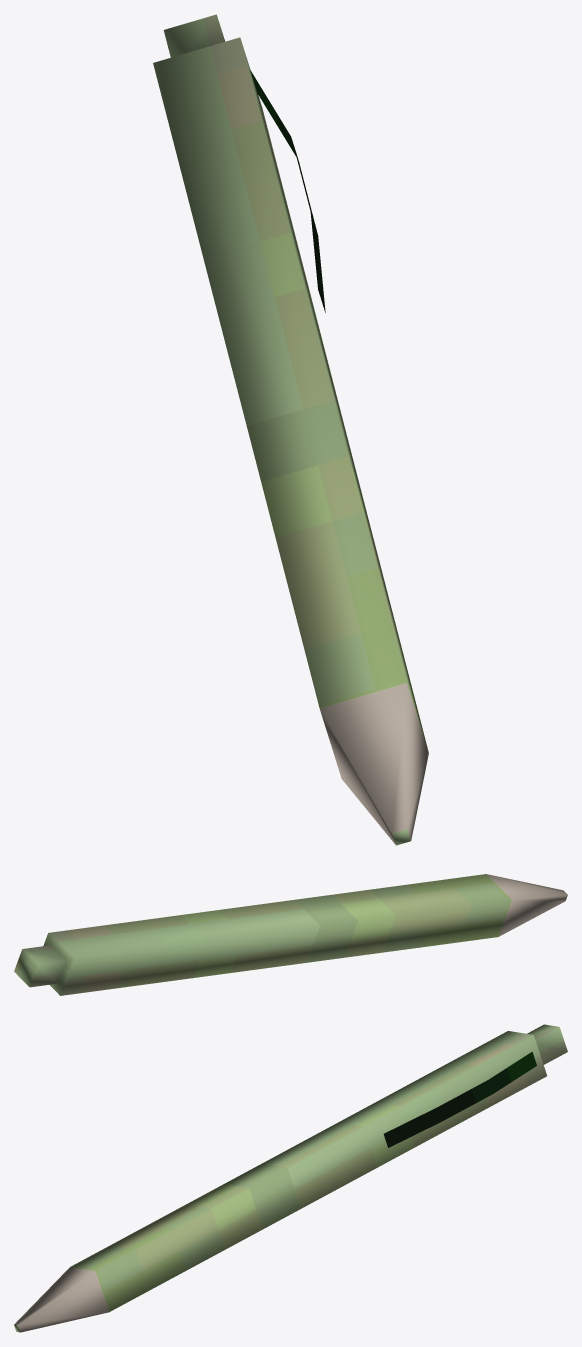
The model's file is pen.obj.
3 renders of one model, top to bottom at view 1: azimuth 30°, elevation 25°; view 2: azimuth 150°, elevation 25°; view 3: azimuth 330°, elevation 25°, orthographic. The views are drawn at different scales.
Visible parts, largest first — view 1: pen; view 2: pen; view 3: pen.
Part boxes in pixels (left/top/right/bottom): pen: left=153, top=14, right=428, bottom=845; pen: left=14, top=874, right=567, bottom=995; pen: left=14, top=1024, right=567, bottom=1332.
Size of the model in its own units: 0.0934 by 0.0524 by 0.2222.
